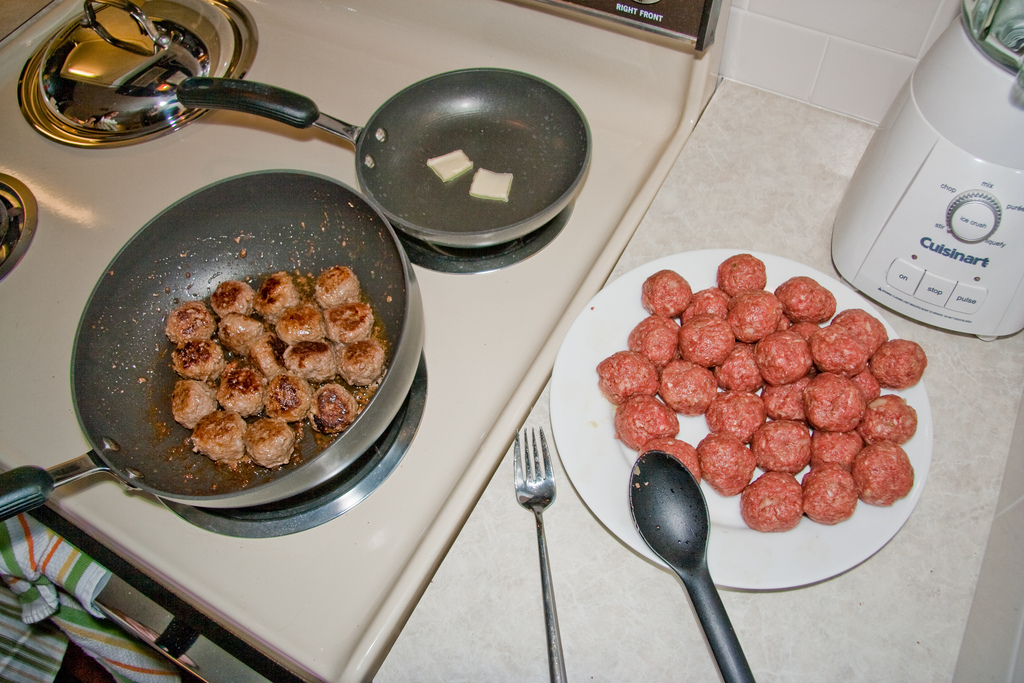meatballs: (615, 261, 915, 521), (148, 276, 376, 455)
